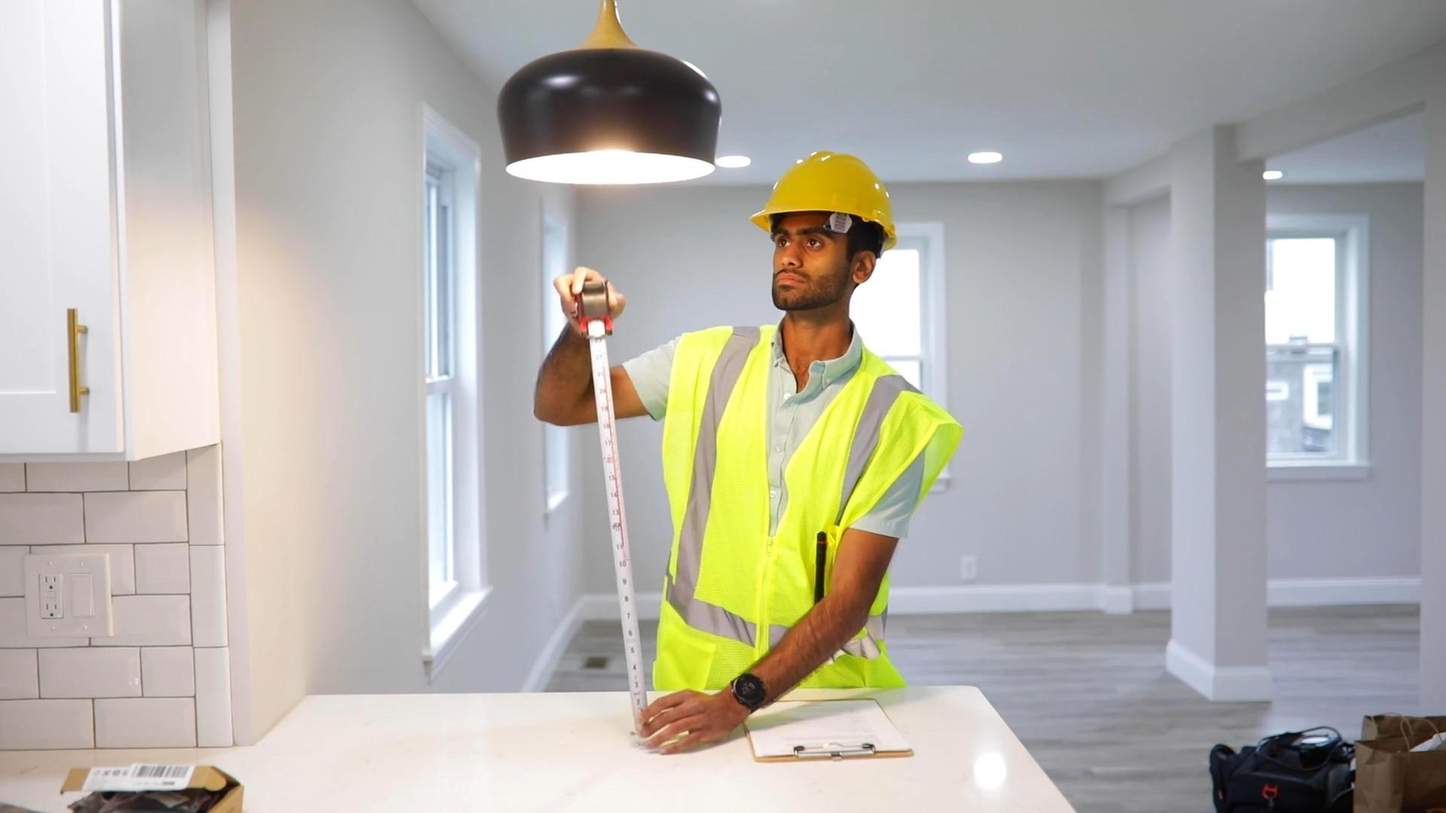Helmet: (750, 150, 900, 257)
Person: (591, 143, 953, 759)
Safety Vest: (670, 341, 904, 672)
bare-arms: (635, 672, 739, 750), (546, 262, 625, 340)
